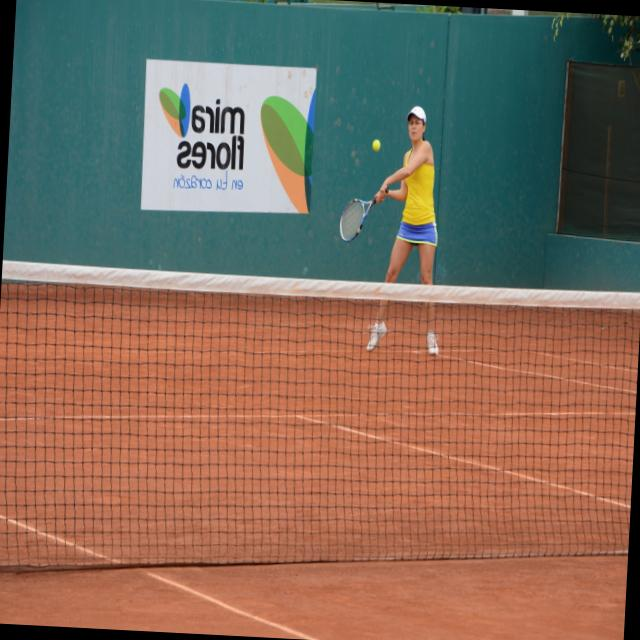Tennis Ball: (372, 137, 382, 152)
